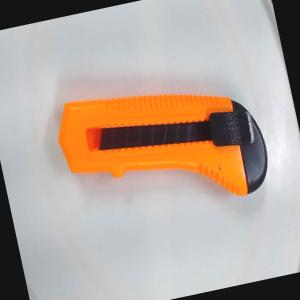estilete: (49, 62, 274, 232)
